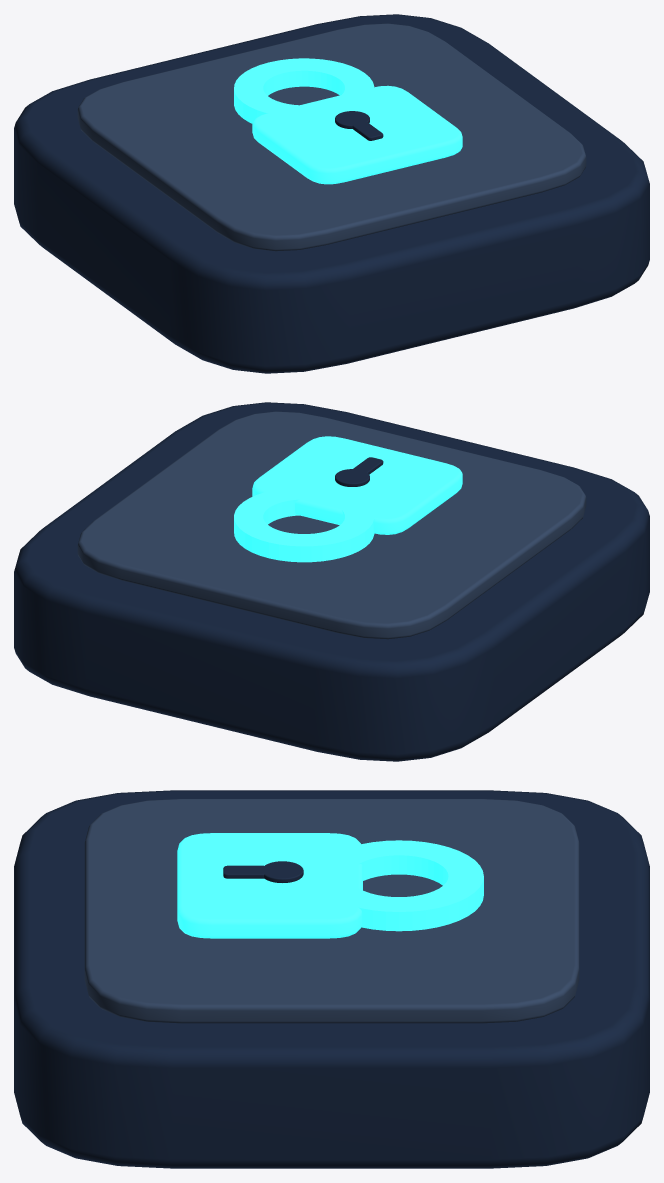
File: AFJ_Lock_Hub.fbx
The picture shows the model from 3 angles, top to bottom: view 1: azimuth 30°, elevation 25°; view 2: azimuth 150°, elevation 25°; view 3: azimuth 270°, elevation 25°; orthographic projection. The views are drawn at different scales.
Visible parts, largest first — view 1: Lock_Housing, Lock_Face, Lock_Icon_Body, Lock_Icon_Arch; view 2: Lock_Housing, Lock_Face, Lock_Icon_Body, Lock_Icon_Arch, Lock_Keyhole; view 3: Lock_Housing, Lock_Face, Lock_Icon_Body, Lock_Icon_Arch, Lock_Keyhole, Keyhole_Stem.
Boxes of the visible parts, x1,y1,x2,y2 form: Lock_Housing: (14,14,649,373); Lock_Face: (77,23,586,251); Lock_Icon_Body: (252,85,462,184); Lock_Icon_Arch: (234,58,374,123); Lock_Housing: (14,402,649,761); Lock_Face: (77,411,586,639); Lock_Icon_Body: (252,436,462,534); Lock_Icon_Arch: (234,487,374,562); Lock_Keyhole: (335,469,369,486); Lock_Housing: (14,790,649,1168); Lock_Face: (84,799,579,1023); Lock_Icon_Body: (177,833,362,938); Lock_Icon_Arch: (314,840,483,931); Lock_Keyhole: (264,861,303,882); Keyhole_Stem: (223,865,266,878).
Size of the model in its own units: 36 by 10.6 by 36.
